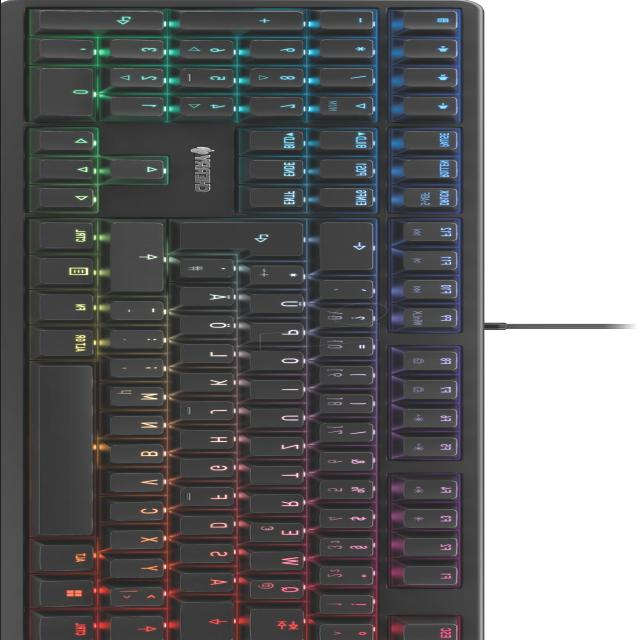0: (319, 337, 379, 358)
1: (318, 595, 378, 615)
2: (318, 566, 378, 587)
3: (319, 538, 379, 558)
4: (319, 509, 379, 529)
5: (319, 480, 379, 501)
6: (319, 452, 379, 472)
7: (318, 424, 380, 444)
8: (318, 395, 380, 415)
9: (319, 366, 379, 386)
a: (180, 574, 239, 594)
accent: (319, 280, 379, 300)
ae: (180, 287, 239, 307)
alt-left: (41, 545, 99, 574)
altgr-right: (38, 329, 98, 359)
b: (111, 445, 170, 465)
c: (111, 502, 169, 522)
caret: (319, 624, 379, 640)
comma: (110, 359, 169, 379)
d: (181, 516, 239, 536)
del: (320, 223, 378, 271)
e: (253, 524, 309, 544)
enter: (178, 222, 310, 258)
f: (183, 488, 239, 508)
g: (182, 459, 238, 479)
h: (181, 430, 239, 450)
hash: (179, 259, 239, 279)
i: (252, 381, 308, 401)
j: (182, 402, 240, 422)
k: (180, 373, 239, 393)
keyboard: (1, 0, 489, 640)
l: (182, 345, 240, 365)
less: (111, 588, 170, 608)
m: (109, 387, 169, 408)
minus: (113, 302, 169, 322)
n: (110, 416, 169, 436)
o: (251, 351, 309, 372)
oe: (180, 316, 240, 336)
p: (255, 323, 309, 343)
plus: (251, 266, 310, 286)
point: (112, 330, 170, 350)
q: (249, 580, 308, 601)
r: (252, 495, 310, 515)
s: (181, 545, 239, 565)
shift-left: (112, 617, 168, 640)
shift-lock: (181, 602, 239, 640)
shift-right: (110, 223, 168, 293)
space: (36, 364, 99, 538)
ss: (321, 309, 379, 329)
strg-left: (40, 616, 99, 640)
strg-right: (38, 221, 98, 251)
t: (253, 466, 309, 486)
tab: (253, 609, 309, 640)
u: (251, 409, 309, 429)
ue: (249, 295, 309, 315)
v: (111, 473, 169, 493)
w: (250, 552, 308, 572)
x: (112, 531, 170, 551)
y: (111, 559, 169, 579)
z: (252, 438, 310, 458)
